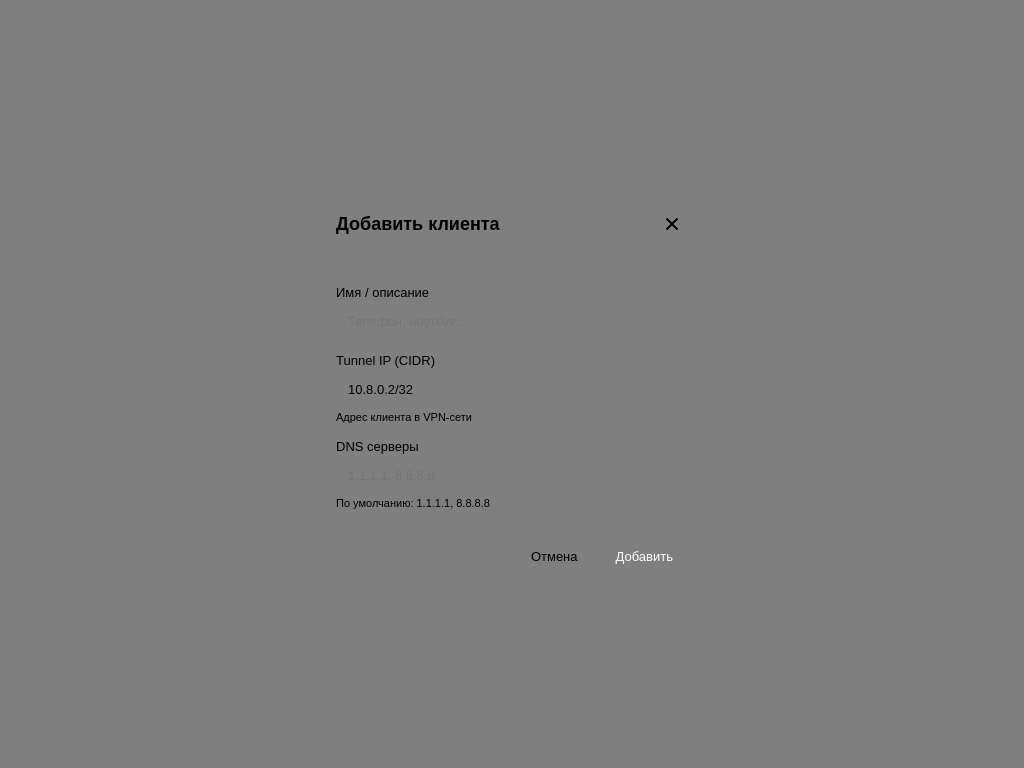
Scenario: AddManagedPeerModal › disables Add and shows an error for a Tunnel IP without a prefix, enables on fix
Replace the text in the field labelled "Tunnel IP (CIDR)" with "10.0.0.2" at (512, 389), box [336,374,688,404]
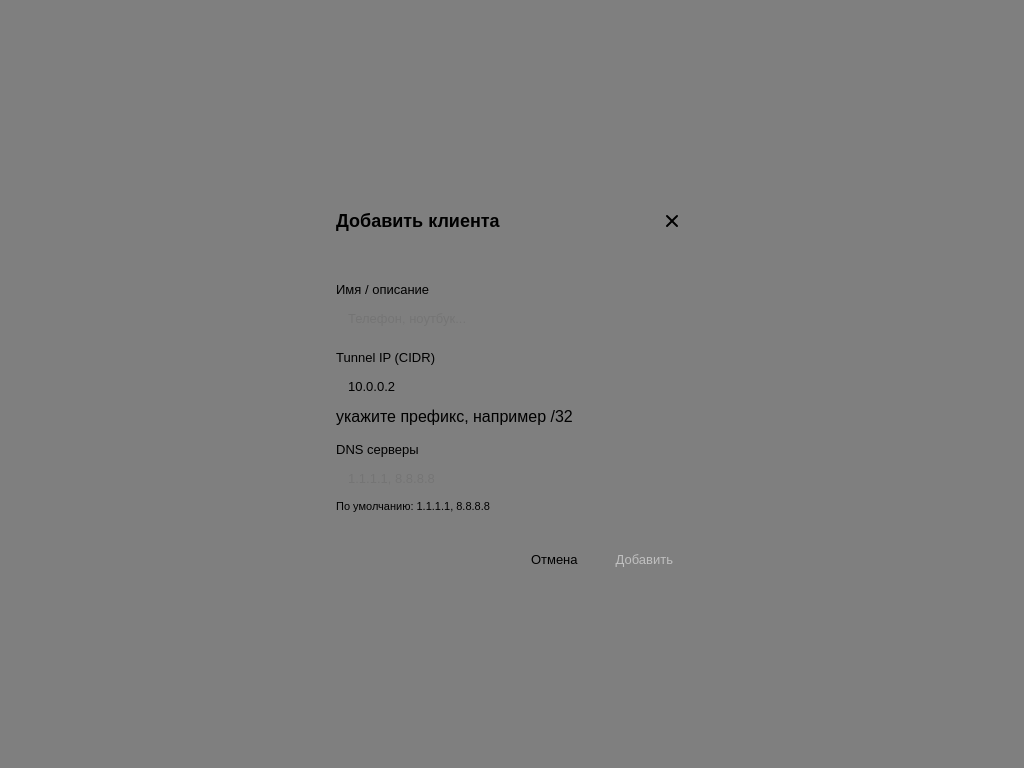
Expected: the button "Добавить" is disabled, [600,544,688,576]
Expected: the text with class "is-error" shows "префикс", [336,408,573,424]
Replace the text in the field labelled "Tunnel IP (CIDR)" with "10.0.0.2/32" at (512, 386), box [336,370,688,402]
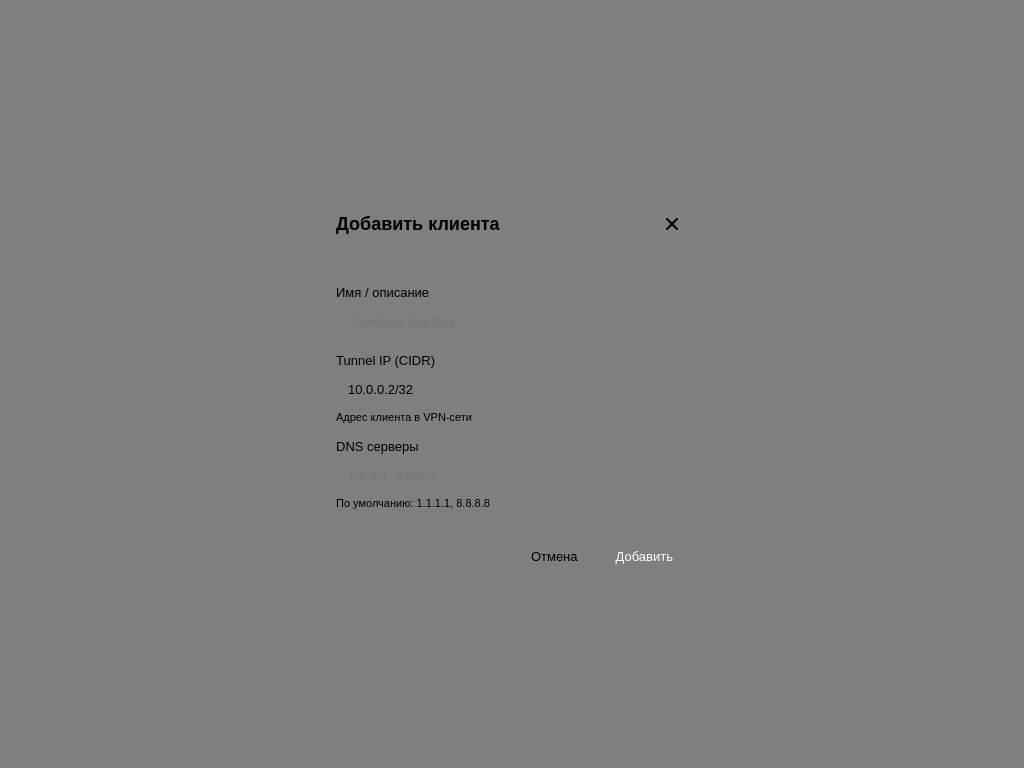
Expected: the button "Добавить" is enabled, [600,540,688,572]
Expected: the text with class "is-error" is gone
